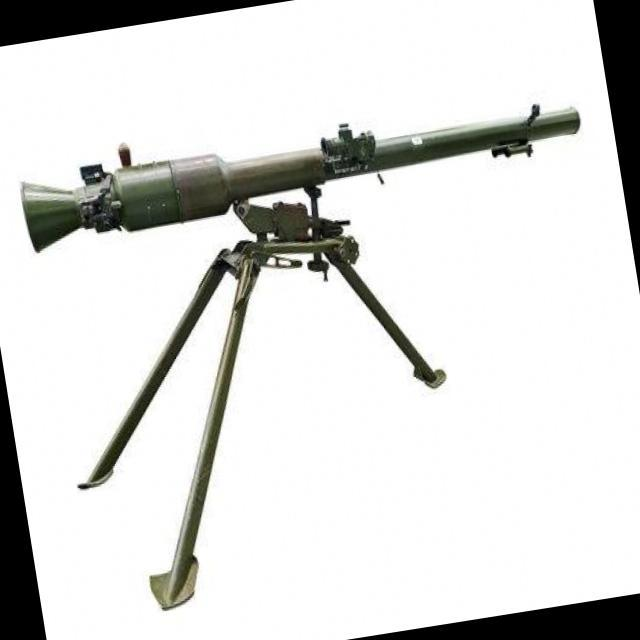rocket: (9, 66, 598, 276)
